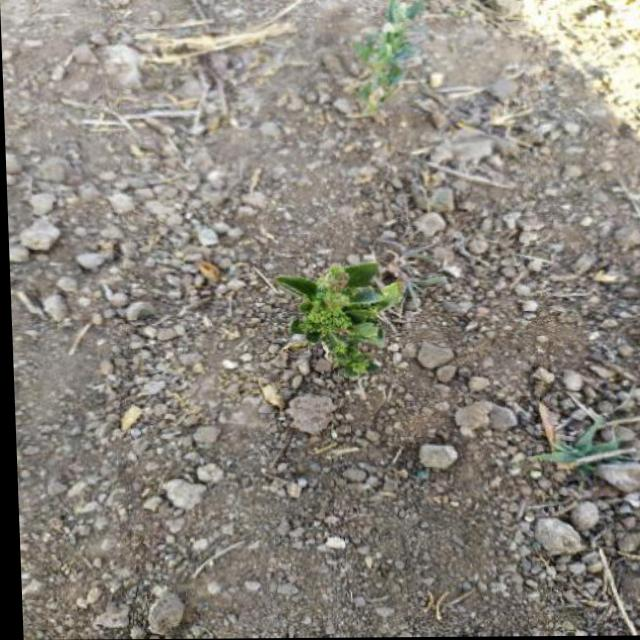weed: (247, 232, 432, 404)
